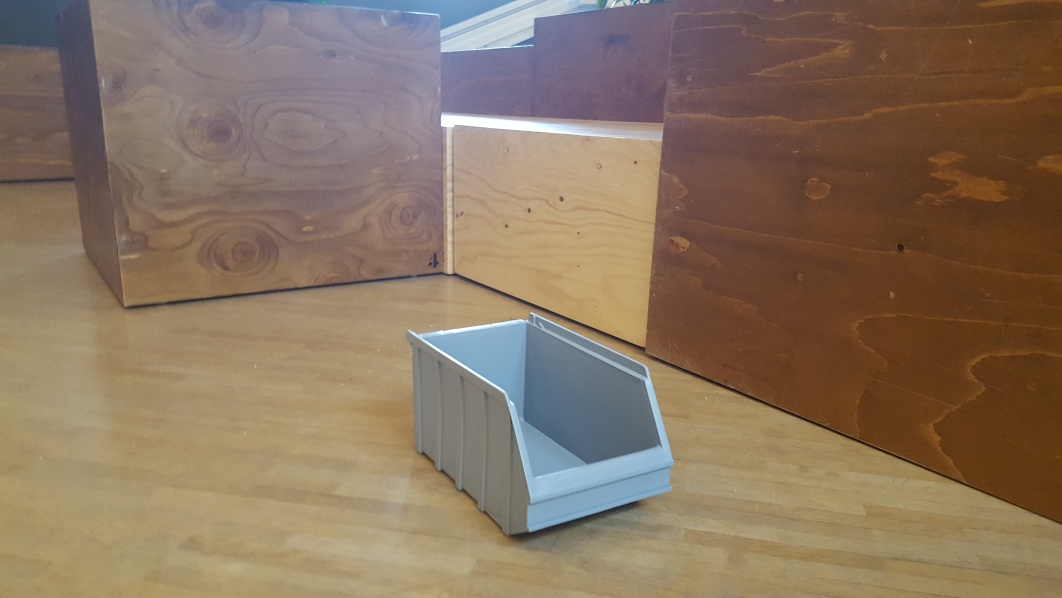tray: (406, 312, 675, 540)
